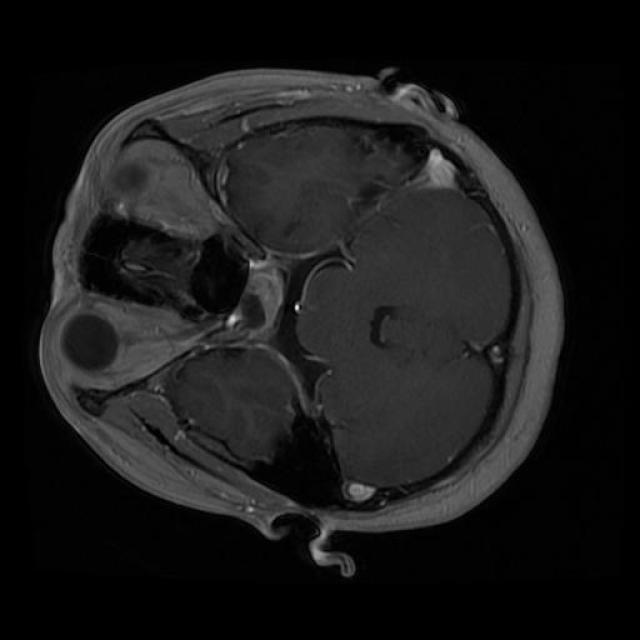Pituitary: (226, 260, 284, 333)
